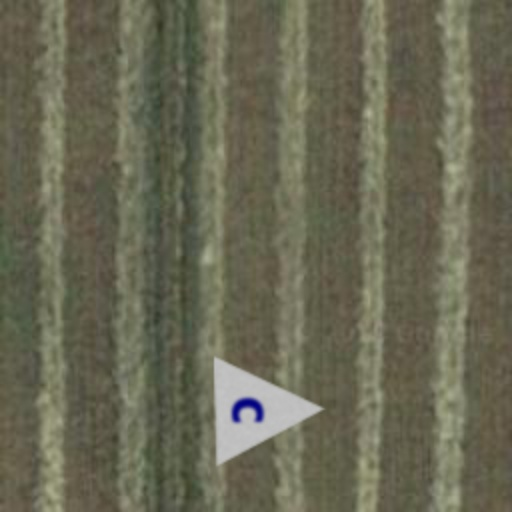triangle: (212, 352, 328, 468)
